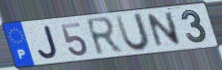3: (180, 8, 208, 45)
5: (58, 21, 89, 57)
J: (36, 24, 60, 61)
N: (145, 10, 183, 50)
R: (83, 15, 125, 58)
U: (113, 12, 153, 54)
